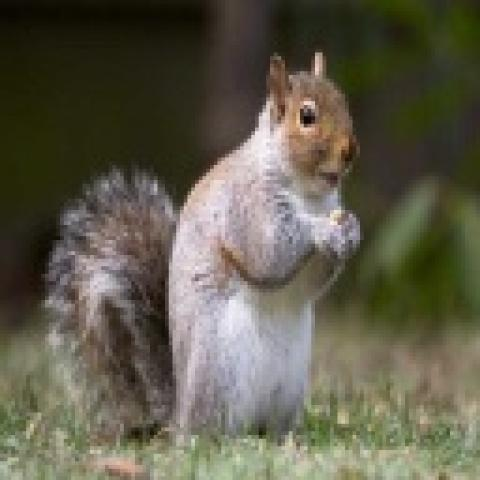small_animal: (38, 45, 364, 446)
